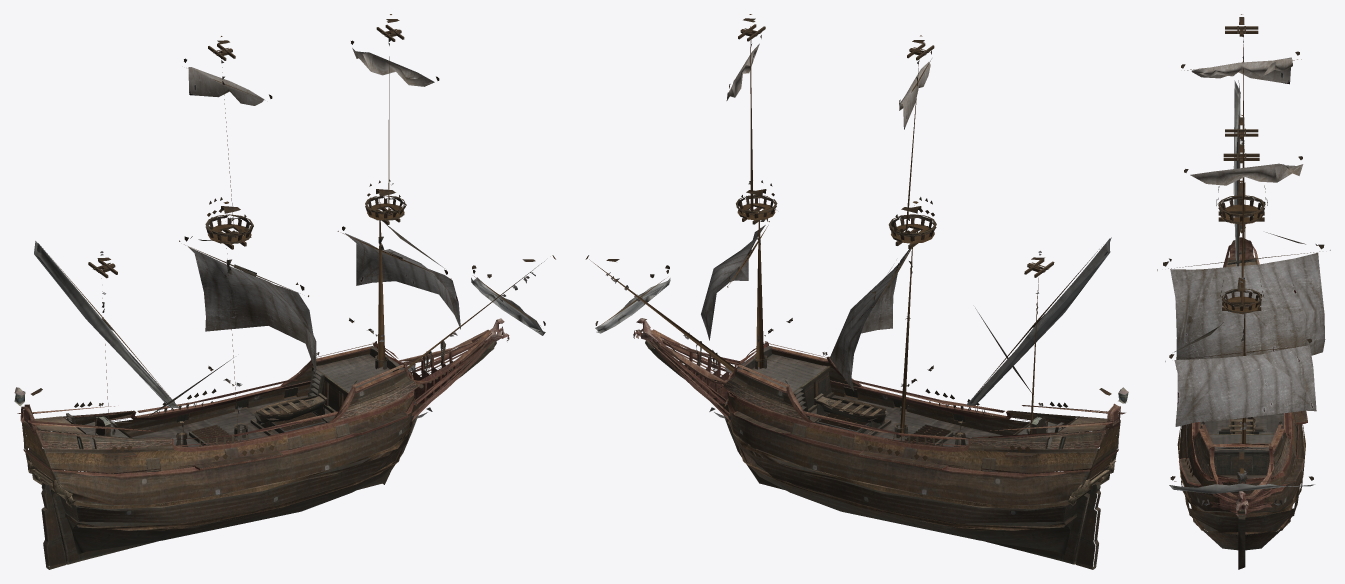
File: ship.glb
The picture shows the model from 3 angles, left to right: view 1: azimuth 30°, elevation 25°; view 2: azimuth 150°, elevation 25°; view 3: azimuth 270°, elevation 25°; orthographic projection.
Parts seen in each view (by area): view 1: dutch_ship_medium_rigging; view 2: dutch_ship_medium_rigging; view 3: dutch_ship_medium_rigging.
Boxes of the visible parts, x1=… form: dutch_ship_medium_rigging: x1=14, y1=14, x2=555, y2=569; dutch_ship_medium_rigging: x1=585, y1=14, x2=1128, y2=569; dutch_ship_medium_rigging: x1=1157, y1=14, x2=1330, y2=569.
Bounding box in the file's own units: 24.05 × 20.82 × 6.81.
Materials: 3 (3 with a texture image).
